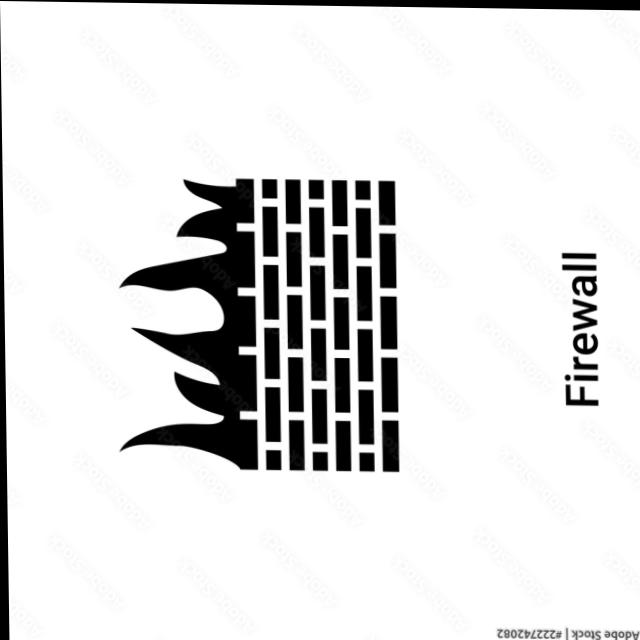Firewall: (18, 25, 527, 626)
